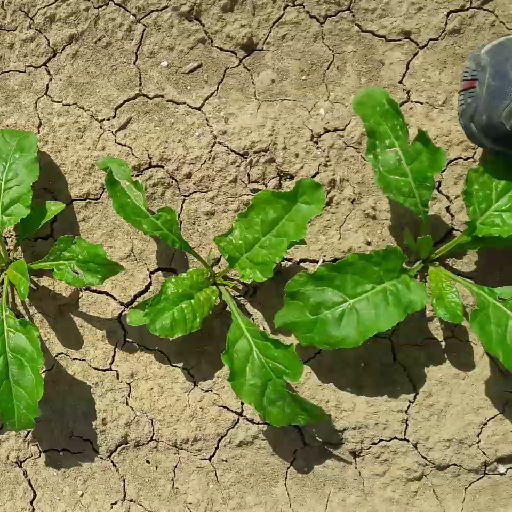sugarbeet: (257, 86, 512, 373), (92, 152, 329, 432), (1, 125, 119, 444)
